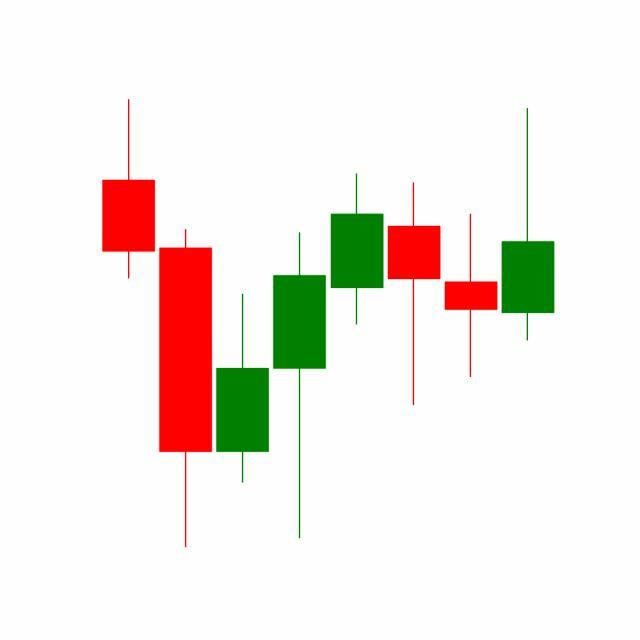Hikkake Pattern: (270, 105, 555, 544)
